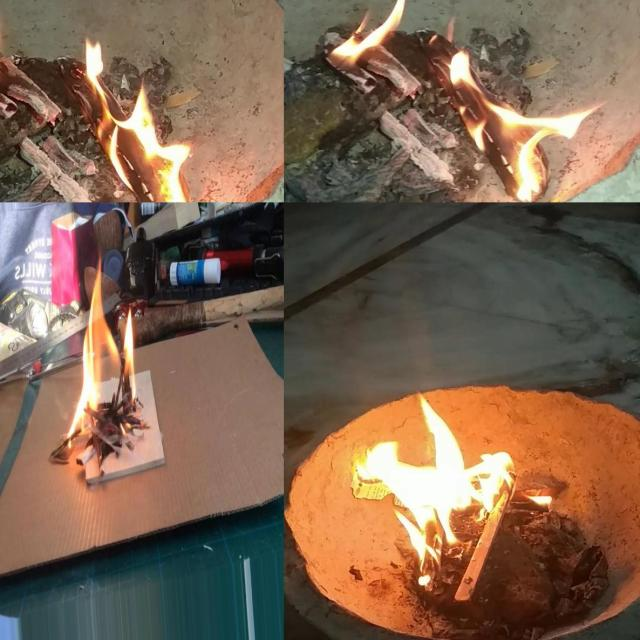fire: (359, 414, 520, 582), (448, 42, 606, 200), (65, 260, 139, 453), (100, 32, 164, 202), (319, 0, 422, 74), (0, 2, 20, 100)
